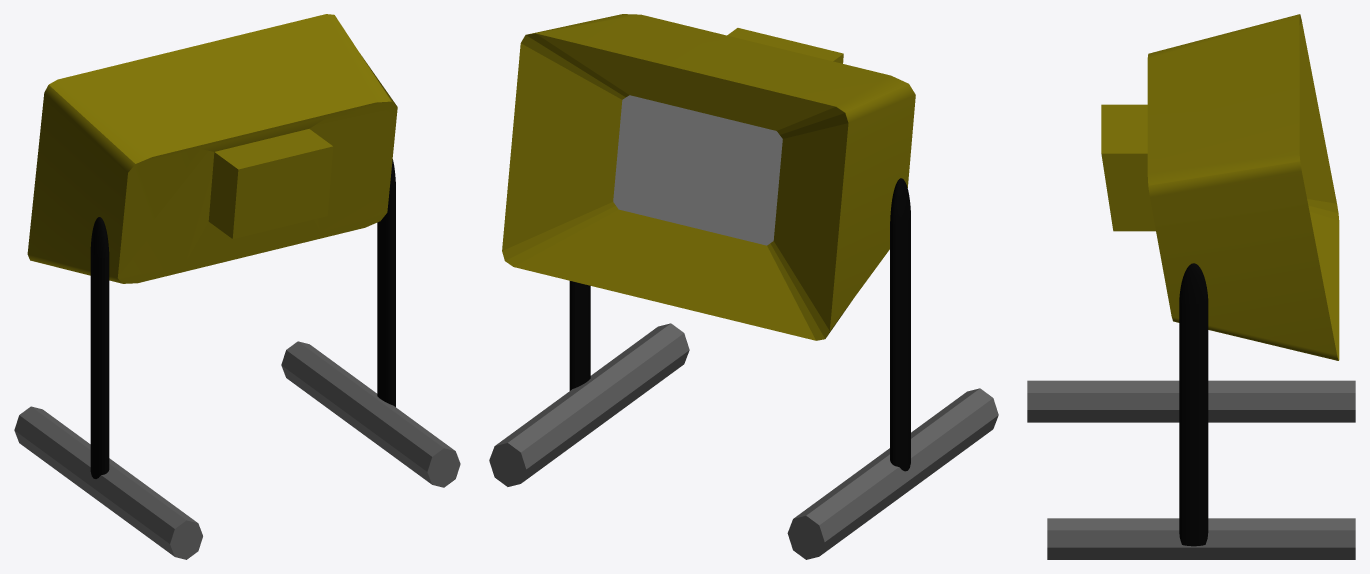
The model's file is Luz de piso.fbx.
3 views of the same model, side by side, from view 1: azimuth 30°, elevation 25°; view 2: azimuth 150°, elevation 25°; view 3: azimuth 270°, elevation 25° (orthographic). The views are drawn at different scales.
Parts seen in each view (by area): view 1: pCube1, pCylinder1, pCylinder2, pSphere1, pSphere2; view 2: pCube1, pCylinder1, pCylinder2, pSphere1, pSphere2; view 3: pCube1, pCylinder1, pCylinder2, pSphere2.
Part boxes in pixels (bbox=[...]): pCube1: bbox=[27, 14, 397, 283]; pCylinder1: bbox=[14, 406, 202, 559]; pCylinder2: bbox=[281, 341, 460, 487]; pSphere1: bbox=[90, 217, 109, 478]; pSphere2: bbox=[377, 159, 395, 406]; pCube1: bbox=[502, 14, 915, 340]; pCylinder1: bbox=[787, 388, 998, 559]; pCylinder2: bbox=[489, 323, 689, 486]; pSphere1: bbox=[890, 178, 910, 471]; pSphere2: bbox=[569, 281, 590, 390]; pCube1: bbox=[1101, 14, 1339, 360]; pCylinder1: bbox=[1027, 380, 1355, 422]; pCylinder2: bbox=[1047, 518, 1355, 559]; pSphere2: bbox=[1179, 263, 1208, 546].
Bounding box in the file's own units: 0.3629 × 0.4432 × 0.324.
